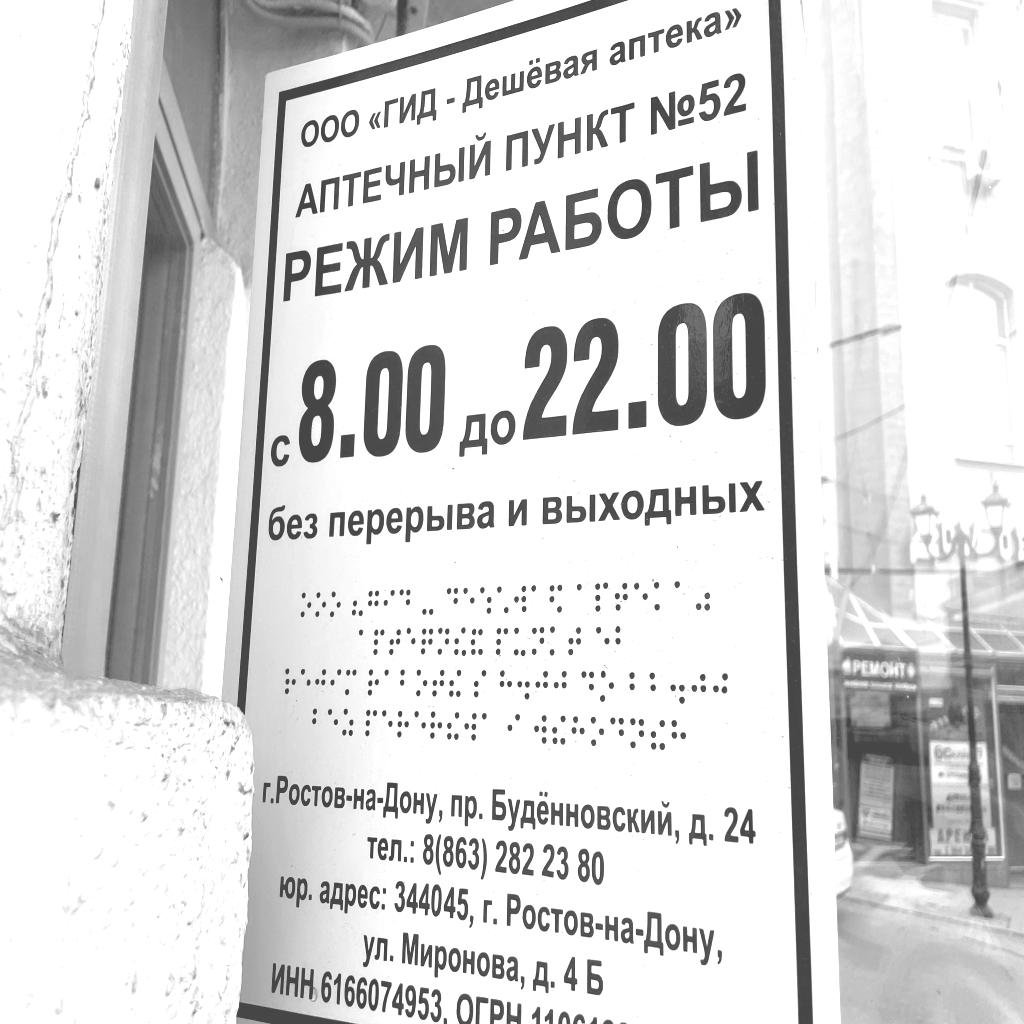_n: (630, 718, 645, 749), (532, 626, 545, 655), (438, 627, 450, 655)
_y: (514, 627, 526, 657)
a: (674, 581, 689, 611), (576, 583, 590, 614), (531, 585, 545, 614), (481, 713, 495, 742), (383, 668, 397, 696), (358, 629, 370, 655)
b: (399, 669, 412, 697), (311, 708, 323, 734)
ch: (421, 627, 434, 655)
d: (610, 717, 625, 748), (581, 670, 595, 701), (446, 586, 459, 614), (399, 588, 411, 615)
defis: (422, 588, 434, 616)
e: (633, 582, 648, 613), (463, 587, 475, 615), (414, 711, 426, 738), (301, 667, 312, 696), (382, 709, 393, 738), (328, 709, 339, 736), (406, 627, 416, 655)
g: (368, 590, 379, 617)
gh: (315, 668, 327, 696)
i: (507, 713, 521, 742), (383, 589, 395, 617), (330, 668, 342, 695)
iKratkoe: (471, 628, 483, 656)
ii: (651, 720, 666, 750), (552, 715, 566, 745), (449, 669, 462, 698), (447, 712, 460, 741), (454, 626, 466, 656)
k: (653, 581, 669, 611), (549, 626, 563, 656)
kavichki1: (352, 591, 364, 617)
kavichki2: (695, 581, 711, 612)
m: (345, 668, 358, 696)
o: (600, 670, 615, 703), (590, 717, 605, 747), (415, 669, 428, 698), (300, 593, 312, 618), (330, 591, 341, 618), (316, 592, 327, 617)
p: (595, 582, 609, 613), (496, 628, 509, 656), (365, 709, 378, 737), (373, 629, 385, 656)
r: (430, 711, 443, 740), (284, 667, 297, 695), (367, 669, 380, 697), (397, 710, 409, 739)
s: (473, 669, 487, 699)
sh: (479, 586, 492, 615)
t: (614, 583, 628, 612), (568, 627, 581, 657), (432, 669, 445, 698), (389, 628, 401, 656)
tochka: (670, 673, 685, 705), (517, 670, 530, 701)
v: (464, 713, 478, 742), (534, 715, 547, 745), (514, 585, 527, 613)
x: (671, 719, 686, 753), (571, 715, 585, 747)
ya: (550, 584, 563, 613)
yo: (497, 586, 509, 614)
z: (342, 708, 354, 737)
